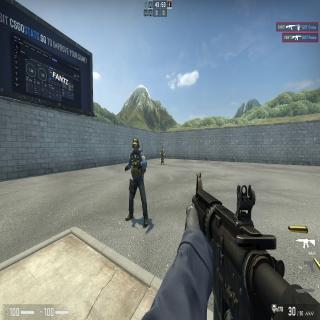CT-Body: (128, 138, 145, 223)
CT-Head: (132, 138, 139, 151)
